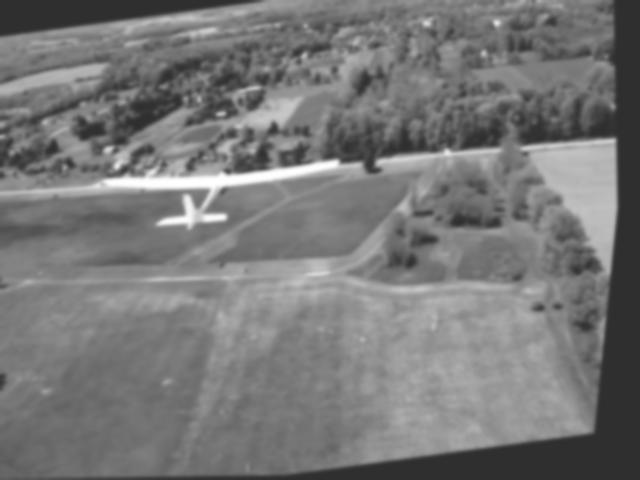hedef: (84, 136, 364, 259)
